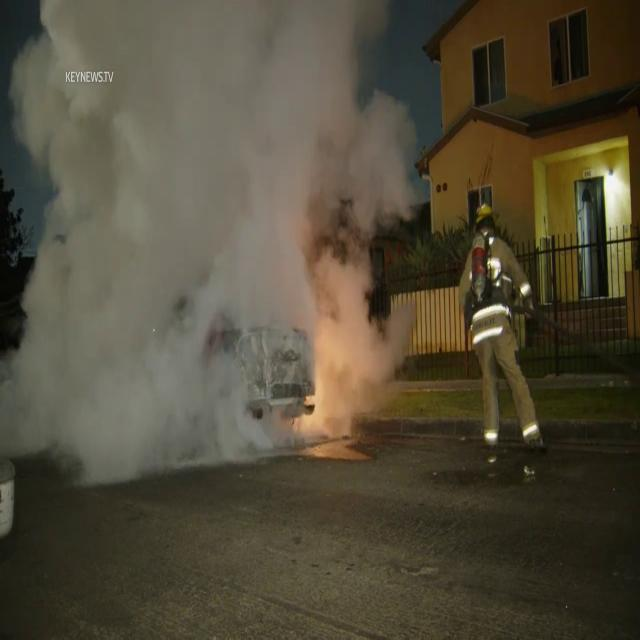Smoke: (0, 1, 436, 488)
